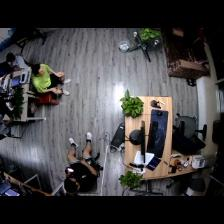normal: (66, 135, 100, 196), (30, 62, 72, 98), (1, 53, 25, 69)
